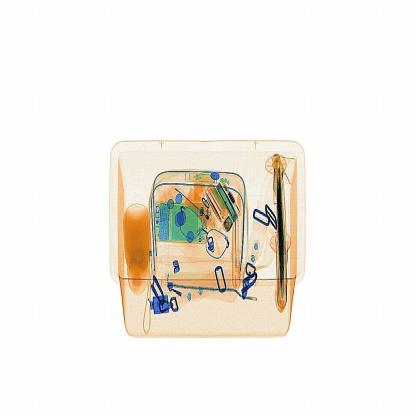wrench: (230, 217, 246, 292)
